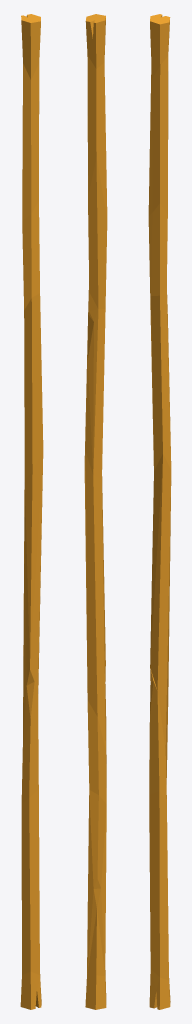
File: SM_Quarterstaff_A_Fantasy.fbx
3 views of the same model, side by side, from view 1: azimuth 30°, elevation 25°; view 2: azimuth 150°, elevation 25°; view 3: azimuth 330°, elevation 25° (orthographic).
Parts seen in each view (by area): view 1: quarterstaff-a-fantasy; view 2: quarterstaff-a-fantasy; view 3: quarterstaff-a-fantasy.
Part boxes in pixels (left/top/right/bottom): quarterstaff-a-fantasy: left=20, top=14, right=43, bottom=1009; quarterstaff-a-fantasy: left=84, top=14, right=107, bottom=1009; quarterstaff-a-fantasy: left=148, top=14, right=171, bottom=1009.
Size of the model in its own units: 0.0497 by 2.19 by 0.0421.
